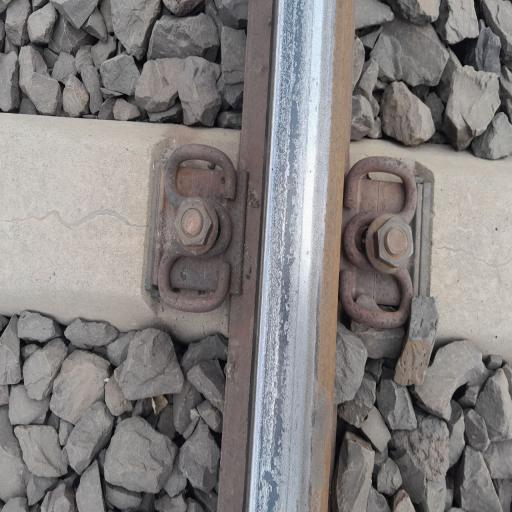bolt: (368, 204, 416, 288), (169, 193, 214, 255)
clip: (338, 149, 429, 352), (146, 136, 238, 324)
rail: (251, 11, 361, 365)
